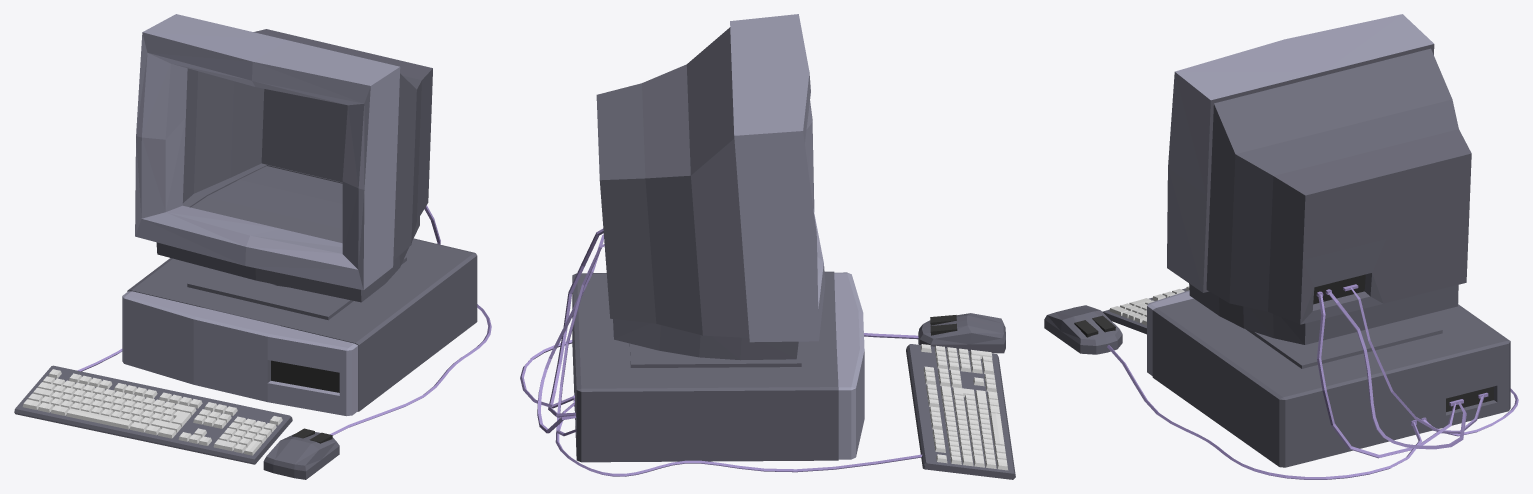
Rendered from computer_setup.glb.
The picture shows the model from 3 angles, left to right: view 1: azimuth 30°, elevation 25°; view 2: azimuth 150°, elevation 25°; view 3: azimuth 270°, elevation 25°; orthographic projection. The views are drawn at different scales.
Parts seen in each view (by area): view 1: monitor_base, computer, keyboard, mouse, cables; view 2: monitor_base, computer, keyboard, cables, mouse; view 3: monitor_base, computer, cables, mouse, keyboard.
Boxes of the visible parts, box(x1,y1,x2,y2) form: monitor_base: box(135, 14, 432, 320); computer: box(122, 238, 477, 416); keyboard: box(14, 365, 292, 464); mouse: box(263, 428, 339, 479); cables: box(77, 205, 491, 435); monitor_base: box(596, 14, 825, 367); computer: box(572, 271, 864, 462); keyboard: box(906, 344, 1015, 479); cables: box(520, 228, 922, 476); mouse: box(918, 313, 1005, 353); monitor_base: box(1167, 14, 1471, 368); computer: box(1147, 290, 1510, 467); cables: box(1107, 284, 1518, 479); mouse: box(1044, 305, 1122, 354); keyboard: box(1102, 286, 1189, 334).
Size of the model in its own units: 2.48 by 1.64 by 2.18.
